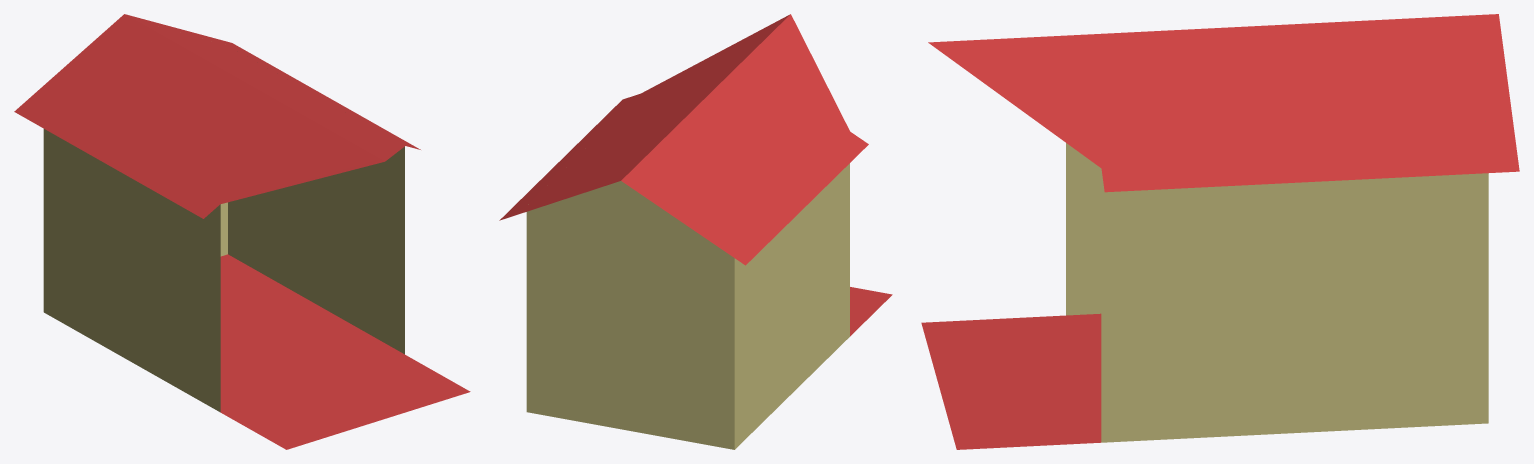
3 renders of one model, left to right at view 1: azimuth 30°, elevation 25°; view 2: azimuth 150°, elevation 25°; view 3: azimuth 270°, elevation 25°, orthographic. The views are drawn at different scales.
Size of the model in its own units: 10.9 by 16.08 by 10.24.
